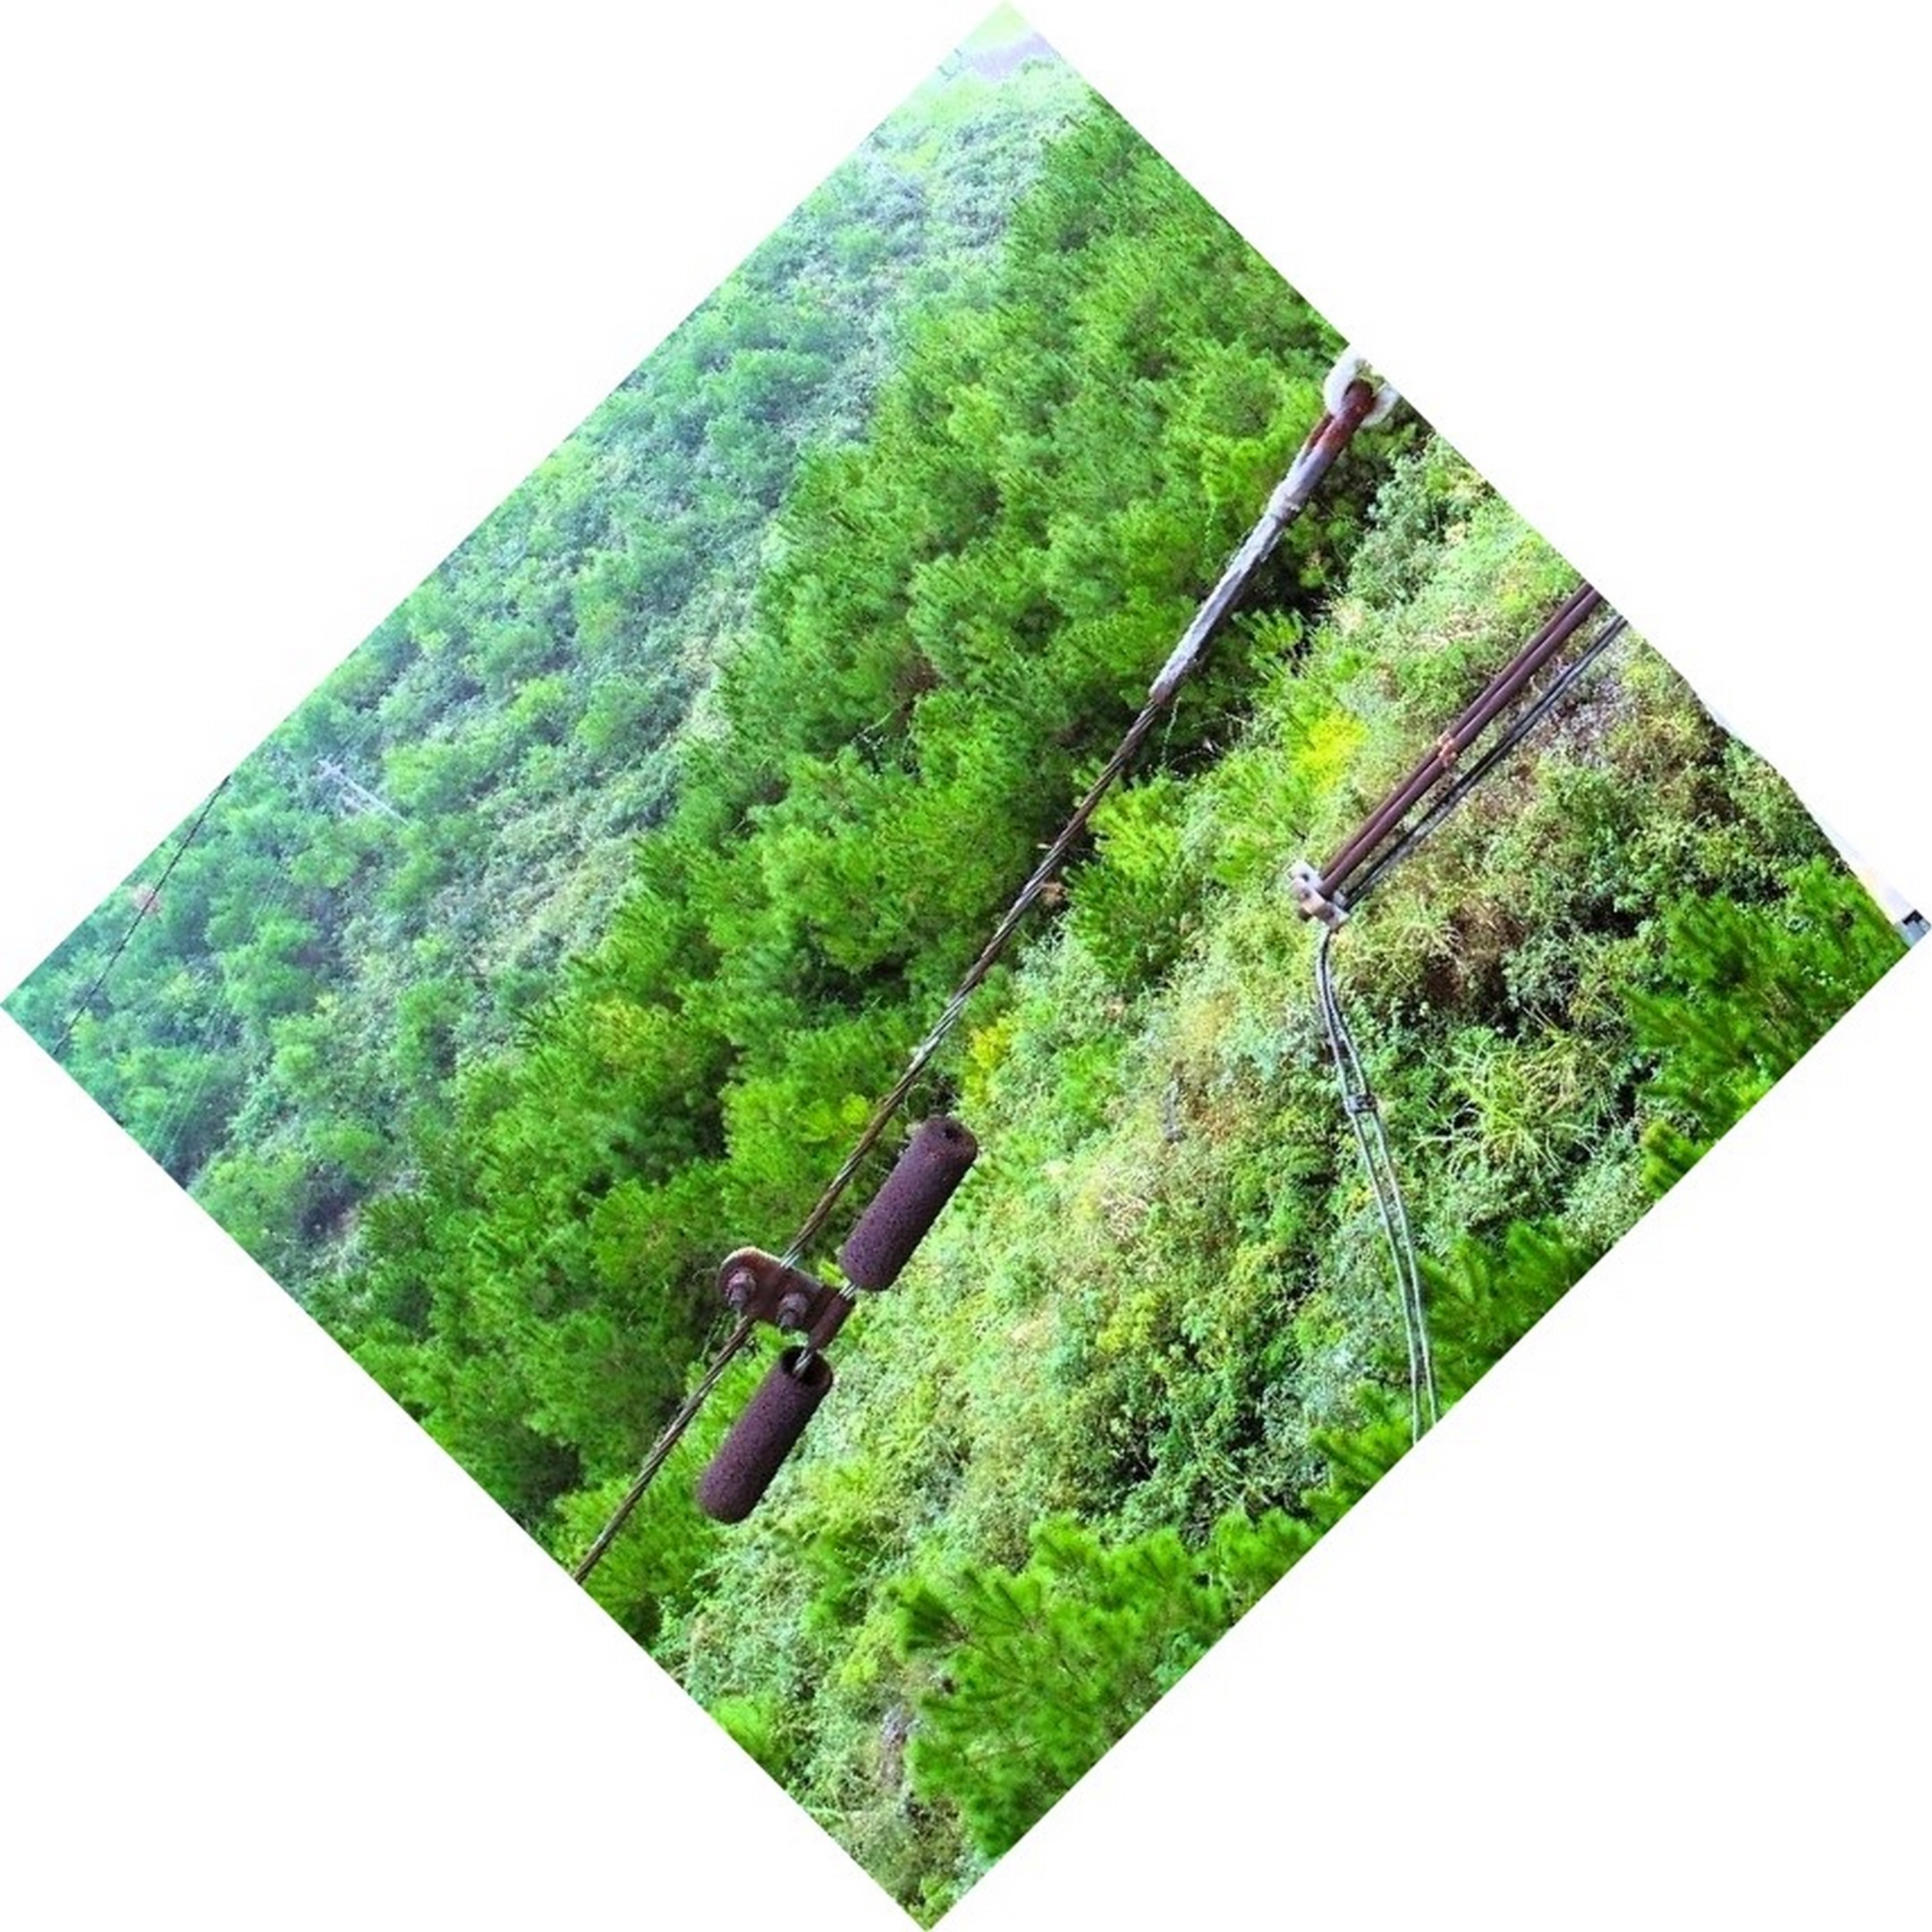Shockproof hammer: (665, 1100, 991, 1543)
